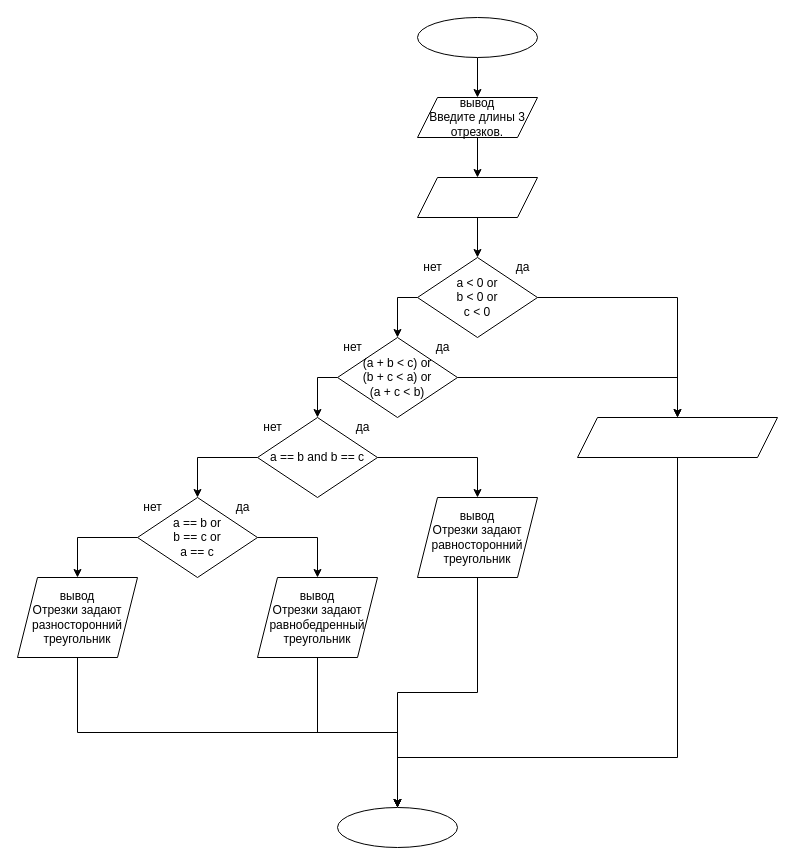
Image size: 795x865. Some labels were removed from this diagram. The centre of each missing label's shape, as x and y in pixels:
"ввод a, b, c: float" goes at point (477, 197).
"вывод Треугольник с заданными сторонами не существует" goes at point (677, 437).
"конец" goes at point (397, 827).
"начало" goes at point (477, 37).
